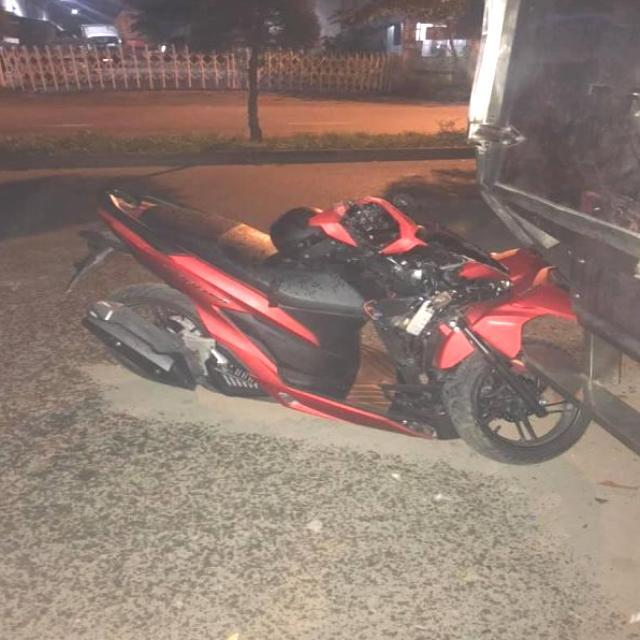accident: (46, 135, 640, 474)
